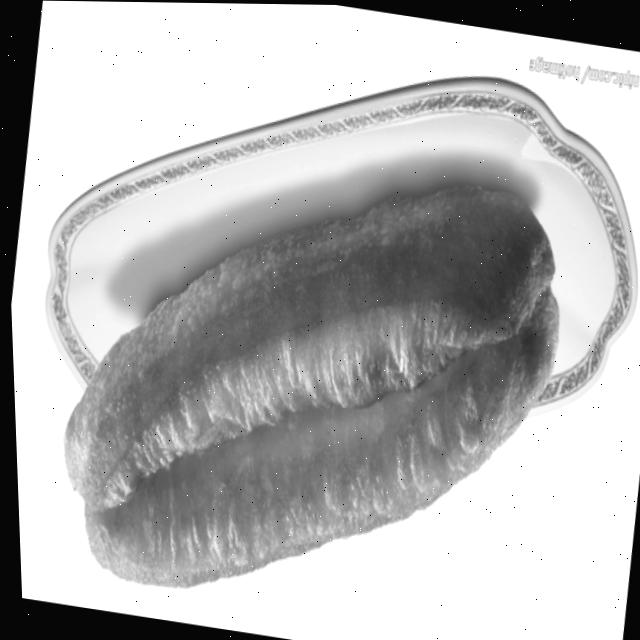炸货点心: (23, 95, 603, 640)
